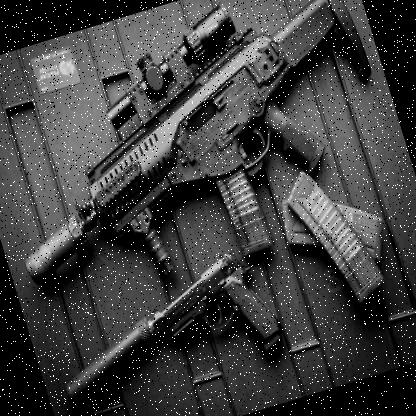rifle: (0, 0, 416, 351), (34, 241, 286, 416)
